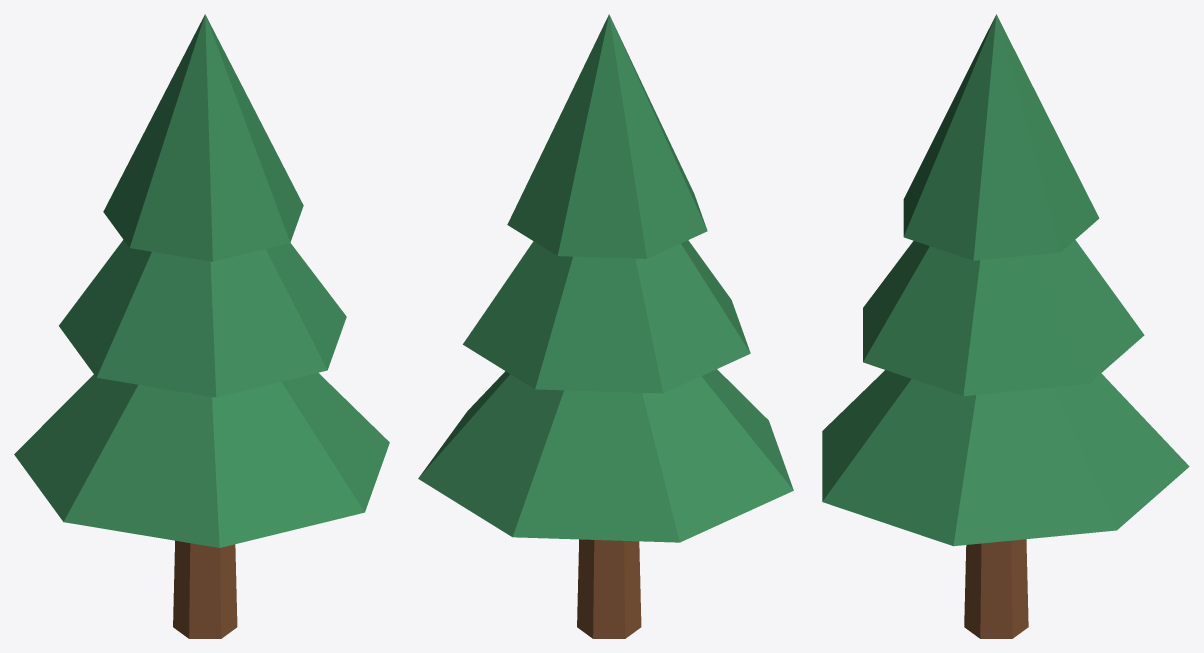
The model's file is tree_pine.glb.
3 views of the same model, side by side, from view 1: azimuth 30°, elevation 25°; view 2: azimuth 150°, elevation 25°; view 3: azimuth 270°, elevation 25° (orthographic).
Visible parts, largest first — view 1: Trunk; view 2: Trunk; view 3: Trunk.
Boxes of the visible parts, box(x1,y1,x2,y2) form: Trunk: box(14, 14, 389, 638); Trunk: box(418, 14, 793, 638); Trunk: box(822, 14, 1189, 638).
Size of the model in its own units: 1.17 by 2.1 by 1.14.
